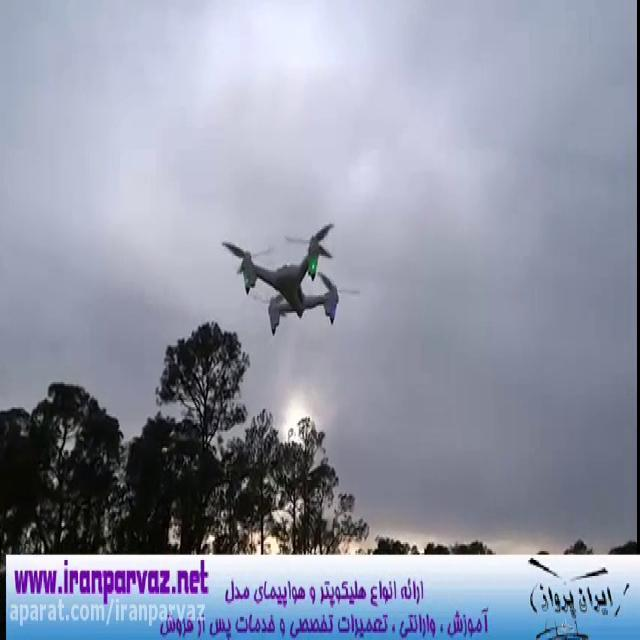drone: (217, 215, 360, 340)
